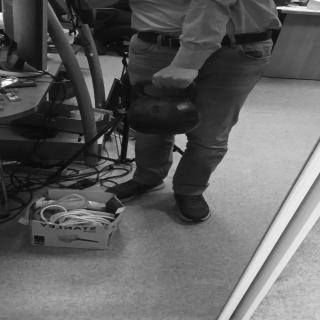girya: (126, 79, 204, 135)
